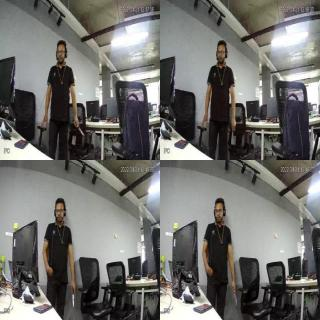knife: (68, 288, 76, 310), (232, 288, 238, 308), (76, 125, 85, 138), (231, 126, 235, 146)
